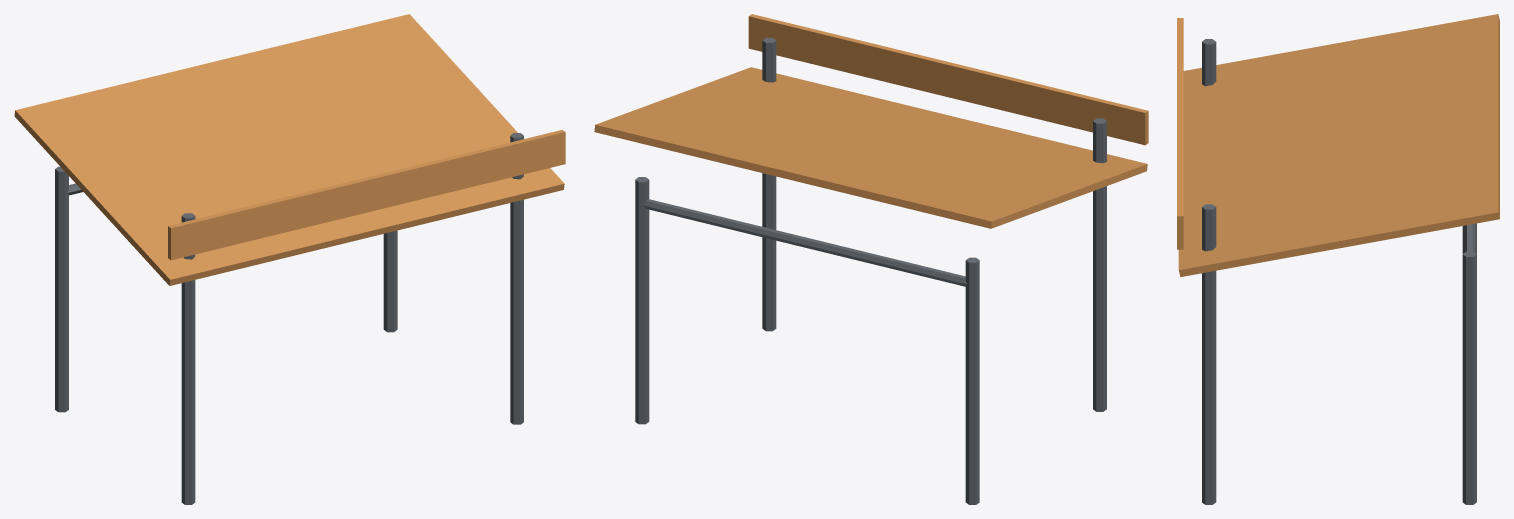
File: TC_ENV_CampAwning_V1.glb
3 views of the same model, side by side, from view 1: azimuth 30°, elevation 25°; view 2: azimuth 150°, elevation 25°; view 3: azimuth 270°, elevation 25° (orthographic). The views are drawn at different scales.
Visible parts, largest first — view 1: TC_ENV_CampAwning_V1; view 2: TC_ENV_CampAwning_V1; view 3: TC_ENV_CampAwning_V1.
Part boxes in pixels (x1,y1,x2,y2): TC_ENV_CampAwning_V1: [14, 14, 565, 504]; TC_ENV_CampAwning_V1: [594, 14, 1148, 504]; TC_ENV_CampAwning_V1: [1177, 14, 1499, 504].
Size of the model in its own units: 3.6 by 2.59 by 2.48.
